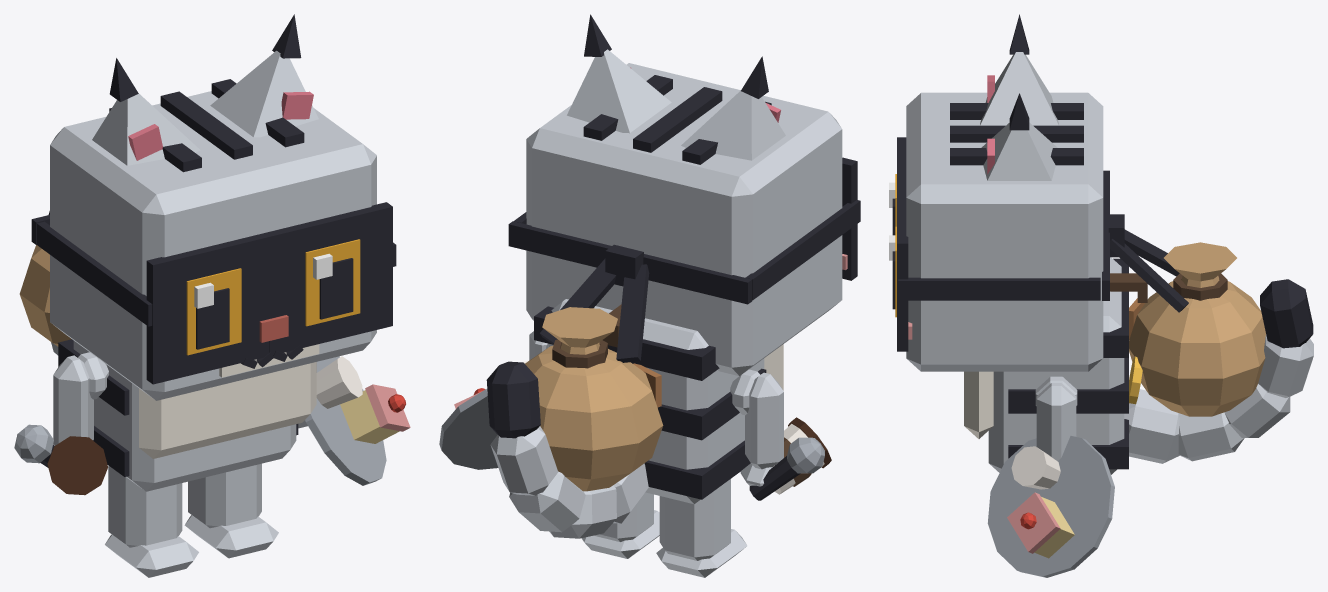
File: CatCafe_Cat_MaineCoon_Work.glb
The picture shows the model from 3 angles, left to right: view 1: azimuth 30°, elevation 25°; view 2: azimuth 150°, elevation 25°; view 3: azimuth 270°, elevation 25°; orthographic projection. The views are drawn at different scales.
Parts seen in each view (by area): view 1: CatCafe_Cat_MaineCoon_Work_Head, CatCafe_Cat_MaineCoon_Work_Prop, CatCafe_Cat_MaineCoon_Work_Body, CatCafe_Cat_MaineCoon_Work_Held_Waiter, CatCafe_Cat_MaineCoon_Work_LegB2, CatCafe_Cat_MaineCoon_Work_LegB1, CatCafe_Cat_MaineCoon_Work_EarL, CatCafe_Cat_MaineCoon_Work_EarR, CatCafe_Cat_MaineCoon_Work_Eye2, CatCafe_Cat_MaineCoon_Work_Eye1, CatCafe_Cat_MaineCoon_Work_LegF2, CatCafe_Cat_MaineCoon_Work_Held_Barista (+2 smaller); view 2: CatCafe_Cat_MaineCoon_Work_Head, CatCafe_Cat_MaineCoon_Work_Prop2, CatCafe_Cat_MaineCoon_Work_Body, CatCafe_Cat_MaineCoon_Work_Prop, CatCafe_Cat_MaineCoon_Work_Tail, CatCafe_Cat_MaineCoon_Work_LegB2, CatCafe_Cat_MaineCoon_Work_EarL, CatCafe_Cat_MaineCoon_Work_EarR, CatCafe_Cat_MaineCoon_Work_LegF2, CatCafe_Cat_MaineCoon_Work_Held_Waiter, CatCafe_Cat_MaineCoon_Work_LegB1, CatCafe_Cat_MaineCoon_Work_Held_Entertainer (+1 smaller); view 3: CatCafe_Cat_MaineCoon_Work_Head, CatCafe_Cat_MaineCoon_Work_Prop2, CatCafe_Cat_MaineCoon_Work_Held_Waiter, CatCafe_Cat_MaineCoon_Work_Body, CatCafe_Cat_MaineCoon_Work_Tail, CatCafe_Cat_MaineCoon_Work_Prop, CatCafe_Cat_MaineCoon_Work_EarR, CatCafe_Cat_MaineCoon_Work_EarL, CatCafe_Cat_MaineCoon_Work_LegF1.
Part boxes in pixels (bbox=[...]): CatCafe_Cat_MaineCoon_Work_Head: bbox=[50, 79, 376, 400]; CatCafe_Cat_MaineCoon_Work_Prop: bbox=[31, 202, 396, 384]; CatCafe_Cat_MaineCoon_Work_Body: bbox=[58, 339, 316, 491]; CatCafe_Cat_MaineCoon_Work_Held_Waiter: bbox=[305, 356, 410, 485]; CatCafe_Cat_MaineCoon_Work_LegB2: bbox=[105, 465, 198, 577]; CatCafe_Cat_MaineCoon_Work_LegB1: bbox=[184, 463, 278, 558]; CatCafe_Cat_MaineCoon_Work_EarL: bbox=[210, 14, 318, 137]; CatCafe_Cat_MaineCoon_Work_EarR: bbox=[92, 58, 200, 165]; CatCafe_Cat_MaineCoon_Work_Eye2: bbox=[186, 268, 241, 355]; CatCafe_Cat_MaineCoon_Work_Eye1: bbox=[305, 239, 360, 326]; CatCafe_Cat_MaineCoon_Work_LegF2: bbox=[53, 355, 93, 445]; CatCafe_Cat_MaineCoon_Work_Held_Barista: bbox=[47, 436, 107, 495]; CatCafe_Cat_MaineCoon_Work_Head: bbox=[526, 63, 847, 376]; CatCafe_Cat_MaineCoon_Work_Prop2: bbox=[525, 304, 663, 491]; CatCafe_Cat_MaineCoon_Work_Body: bbox=[534, 299, 783, 504]; CatCafe_Cat_MaineCoon_Work_Prop: bbox=[508, 157, 860, 362]; CatCafe_Cat_MaineCoon_Work_Tail: bbox=[486, 361, 648, 538]; CatCafe_Cat_MaineCoon_Work_LegB2: bbox=[656, 479, 747, 577]; CatCafe_Cat_MaineCoon_Work_EarL: bbox=[567, 14, 671, 133]; CatCafe_Cat_MaineCoon_Work_EarR: bbox=[681, 56, 785, 160]; CatCafe_Cat_MaineCoon_Work_LegF2: bbox=[740, 372, 783, 486]; CatCafe_Cat_MaineCoon_Work_Held_Waiter: bbox=[439, 360, 528, 469]; CatCafe_Cat_MaineCoon_Work_LegB1: bbox=[581, 492, 659, 558]; CatCafe_Cat_MaineCoon_Work_Held_Entertainer: bbox=[749, 437, 824, 500]; CatCafe_Cat_MaineCoon_Work_Head: bbox=[906, 92, 1103, 371]; CatCafe_Cat_MaineCoon_Work_Prop2: bbox=[1110, 242, 1265, 416]; CatCafe_Cat_MaineCoon_Work_Held_Waiter: bbox=[987, 436, 1114, 577]; CatCafe_Cat_MaineCoon_Work_Body: bbox=[964, 257, 1128, 474]; CatCafe_Cat_MaineCoon_Work_Tail: bbox=[1124, 279, 1313, 463]; CatCafe_Cat_MaineCoon_Work_Prop: bbox=[897, 137, 1188, 351]; CatCafe_Cat_MaineCoon_Work_EarR: bbox=[980, 14, 1058, 125]; CatCafe_Cat_MaineCoon_Work_EarL: bbox=[981, 93, 1057, 180]; CatCafe_Cat_MaineCoon_Work_LegF1: bbox=[1036, 383, 1076, 460].
Bounding box in the file's own units: 1.84 × 2.44 × 1.97.
1 material, 1 textured.
